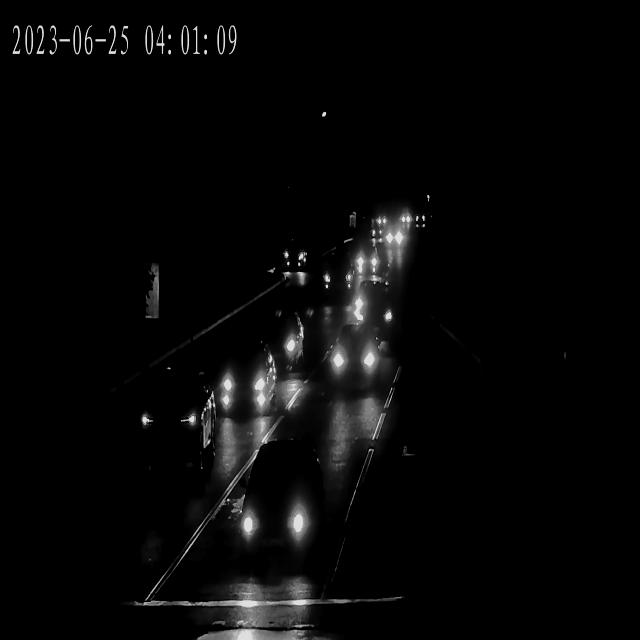Car: (234, 451, 326, 568), (133, 376, 220, 470), (183, 337, 280, 418), (236, 316, 305, 372), (330, 331, 387, 387), (320, 260, 360, 294), (349, 249, 382, 277), (281, 238, 312, 266), (382, 227, 405, 246), (369, 230, 388, 248), (395, 213, 411, 227)
